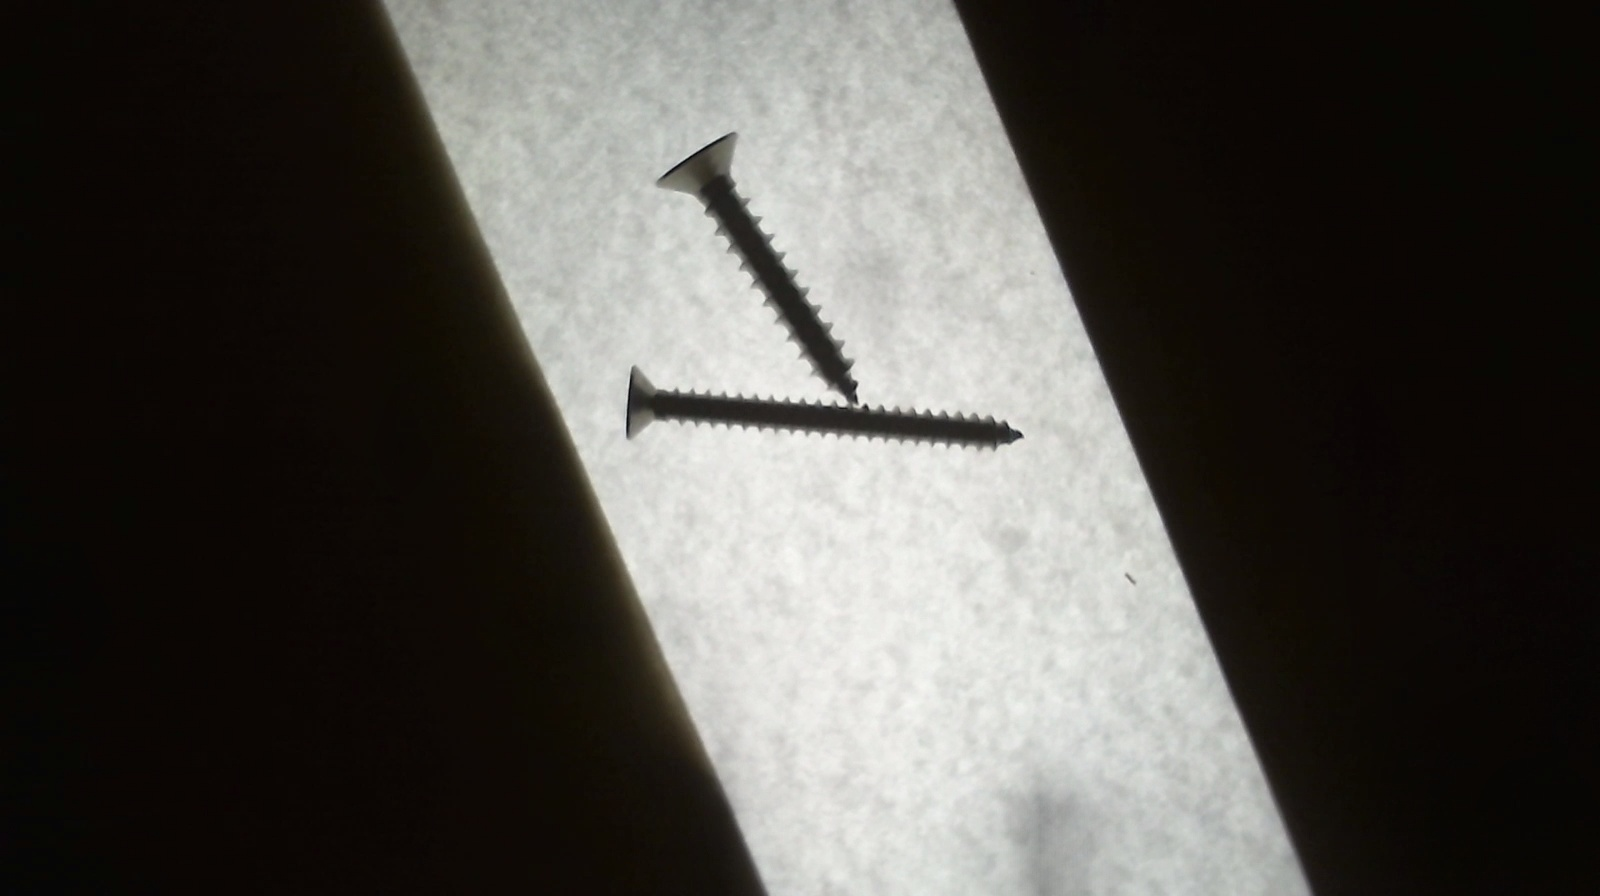S001: (649, 126, 863, 410)
S002: (615, 352, 1027, 458)
